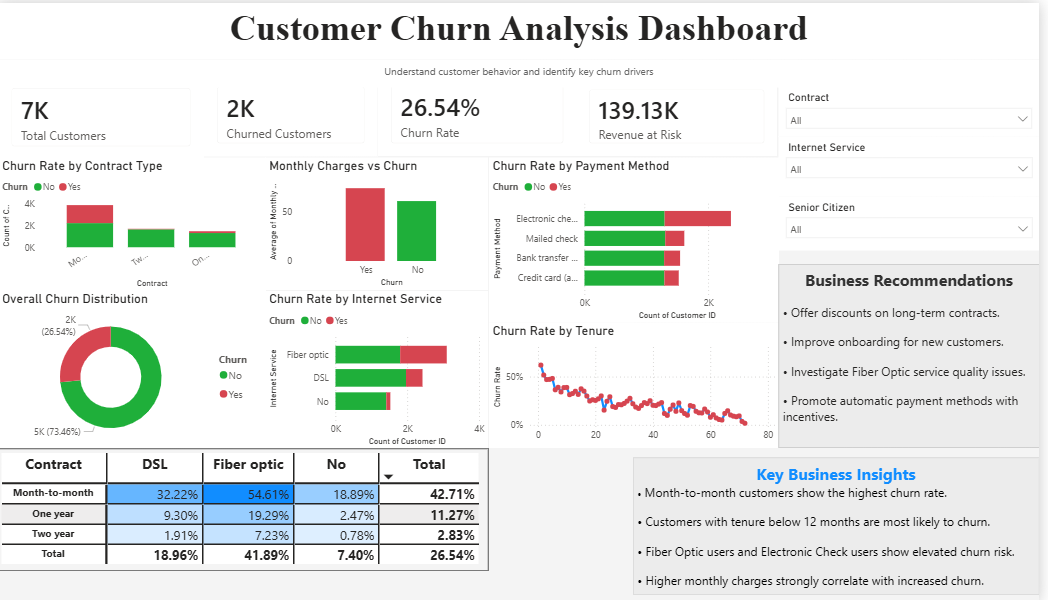

The dashboard page shown, as its layout file describes it:
{"tool":"powerbi","page":{"name":"Page 1","canvas":[1390,800],"ordinal":0},"visuals":[{"type":"cardVisual","fields":{"Data":["CustomerChurn.Total Customers"]},"box":[1.8,96.5,273.7,112.3],"z":0},{"type":"cardVisual","fields":{"Data":["CustomerChurn.Churned Customers"]},"box":[275.4,94.7,231.6,110.5],"z":1000},{"type":"cardVisual","fields":{"Data":["CustomerChurn.Churn Rate"]},"box":[507,93,264.9,112.3],"z":2000},{"type":"columnChart","title":"Churn Rate by Contract Type","fields":{"Category":["CustomerChurn.Contract"],"Series":["CustomerChurn.Churn"],"Y":["CountNonNull(CustomerChurn.Customer ID)"]},"box":[1.7,205,356.7,178.3],"z":3000},{"type":"clusteredColumnChart","title":"Monthly Charges vs Churn","fields":{"Category":["CustomerChurn.Churn"],"Y":["Avg(CustomerChurn.Monthly Charges)"]},"box":[358.3,206.7,296.7,176.7],"z":4000},{"type":"textbox","box":[1.8,0,1387.7,75.4],"z":5000},{"type":"donutChart","title":"Overall Churn Distribution","fields":{"Category":["CustomerChurn.Churn"],"Y":["CustomerChurn.Total Customers"]},"box":[1.7,383.3,356.7,210],"z":6000},{"type":"barChart","title":"Churn Rate by Internet Service","fields":{"Series":["CustomerChurn.Churn"],"Category":["CustomerChurn.Internet Service"],"Y":["CountNonNull(CustomerChurn.Customer ID)"]},"box":[358.3,383.3,296.7,210],"z":7000},{"type":"barChart","title":"Churn Rate by Payment Method","fields":{"Category":["CustomerChurn.Payment Method"],"Y":["CountNonNull(CustomerChurn.Customer ID)"],"Series":["CustomerChurn.Churn"]},"box":[655,206.7,386.7,220],"z":8000},{"type":"slicer","fields":{"Values":["CustomerChurn.Contract"]},"box":[1041.7,95,348.3,83.3],"z":9000},{"type":"slicer","fields":{"Values":["CustomerChurn.Internet Service"]},"box":[1041.7,178.3,348.3,80],"z":10000},{"type":"slicer","fields":{"Values":["CustomerChurn.Senior Citizen"]},"box":[1041.7,258.3,348.3,71.7],"z":11000},{"type":"textbox","box":[1.8,75.4,1387.7,36.8],"z":12000},{"type":"cardVisual","fields":{"Data":["CustomerChurn.Revenue at Risk"]},"box":[771.9,112.3,268.4,105.3],"z":13000},{"type":"lineChart","title":"Churn Rate by Tenure ","fields":{"Category":["CustomerChurn.Tenure"],"Y":["CustomerChurn.Churn Rate"]},"box":[655.8,425,386.5,167.3],"z":14000},{"type":"pivotTable","fields":{"Rows":["CustomerChurn.Contract"],"Columns":["CustomerChurn.Internet Service"],"Values":["CustomerChurn.Churn Rate"]},"box":[0,593.3,655,163.3],"z":15000},{"type":"textbox","box":[848.3,605,541.7,183.3],"z":16000},{"type":"textbox","box":[1041.7,348.3,348.3,245],"z":17000}]}

Visuals, with their boxes in screenshot pixels (x1, y1, x2, y2), scaled from the page's 1390x800 canvas onto the 1048x600 screenshot:
cardVisual - CustomerChurn.Total Customers: (1, 72, 208, 157)
cardVisual - CustomerChurn.Churned Customers: (208, 71, 382, 154)
cardVisual - CustomerChurn.Churn Rate: (382, 70, 582, 154)
"Churn Rate by Contract Type" columnChart: (1, 154, 270, 287)
"Monthly Charges vs Churn" clusteredColumnChart: (270, 155, 494, 288)
textbox: (1, 0, 1047, 57)
"Overall Churn Distribution" donutChart: (1, 287, 270, 445)
"Churn Rate by Internet Service" barChart: (270, 287, 494, 445)
"Churn Rate by Payment Method" barChart: (494, 155, 785, 320)
slicer - CustomerChurn.Contract: (785, 71, 1047, 134)
slicer - CustomerChurn.Internet Service: (785, 134, 1047, 194)
slicer - CustomerChurn.Senior Citizen: (785, 194, 1047, 248)
textbox: (1, 57, 1047, 84)
cardVisual - CustomerChurn.Revenue at Risk: (582, 84, 784, 163)
"Churn Rate by Tenure " lineChart: (494, 319, 786, 444)
pivotTable - CustomerChurn.Contract x CustomerChurn.Internet Service: (0, 445, 494, 567)
textbox: (640, 454, 1047, 591)
textbox: (785, 261, 1047, 445)
